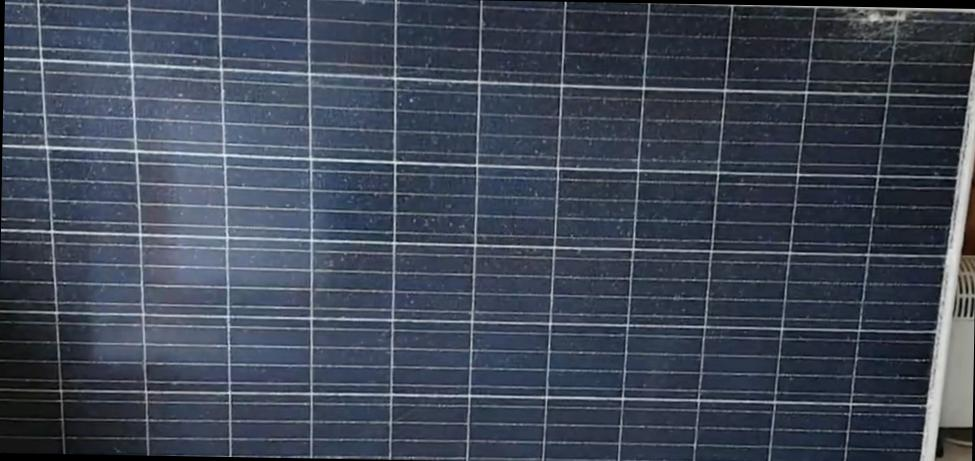Crack: (820, 7, 941, 49)
